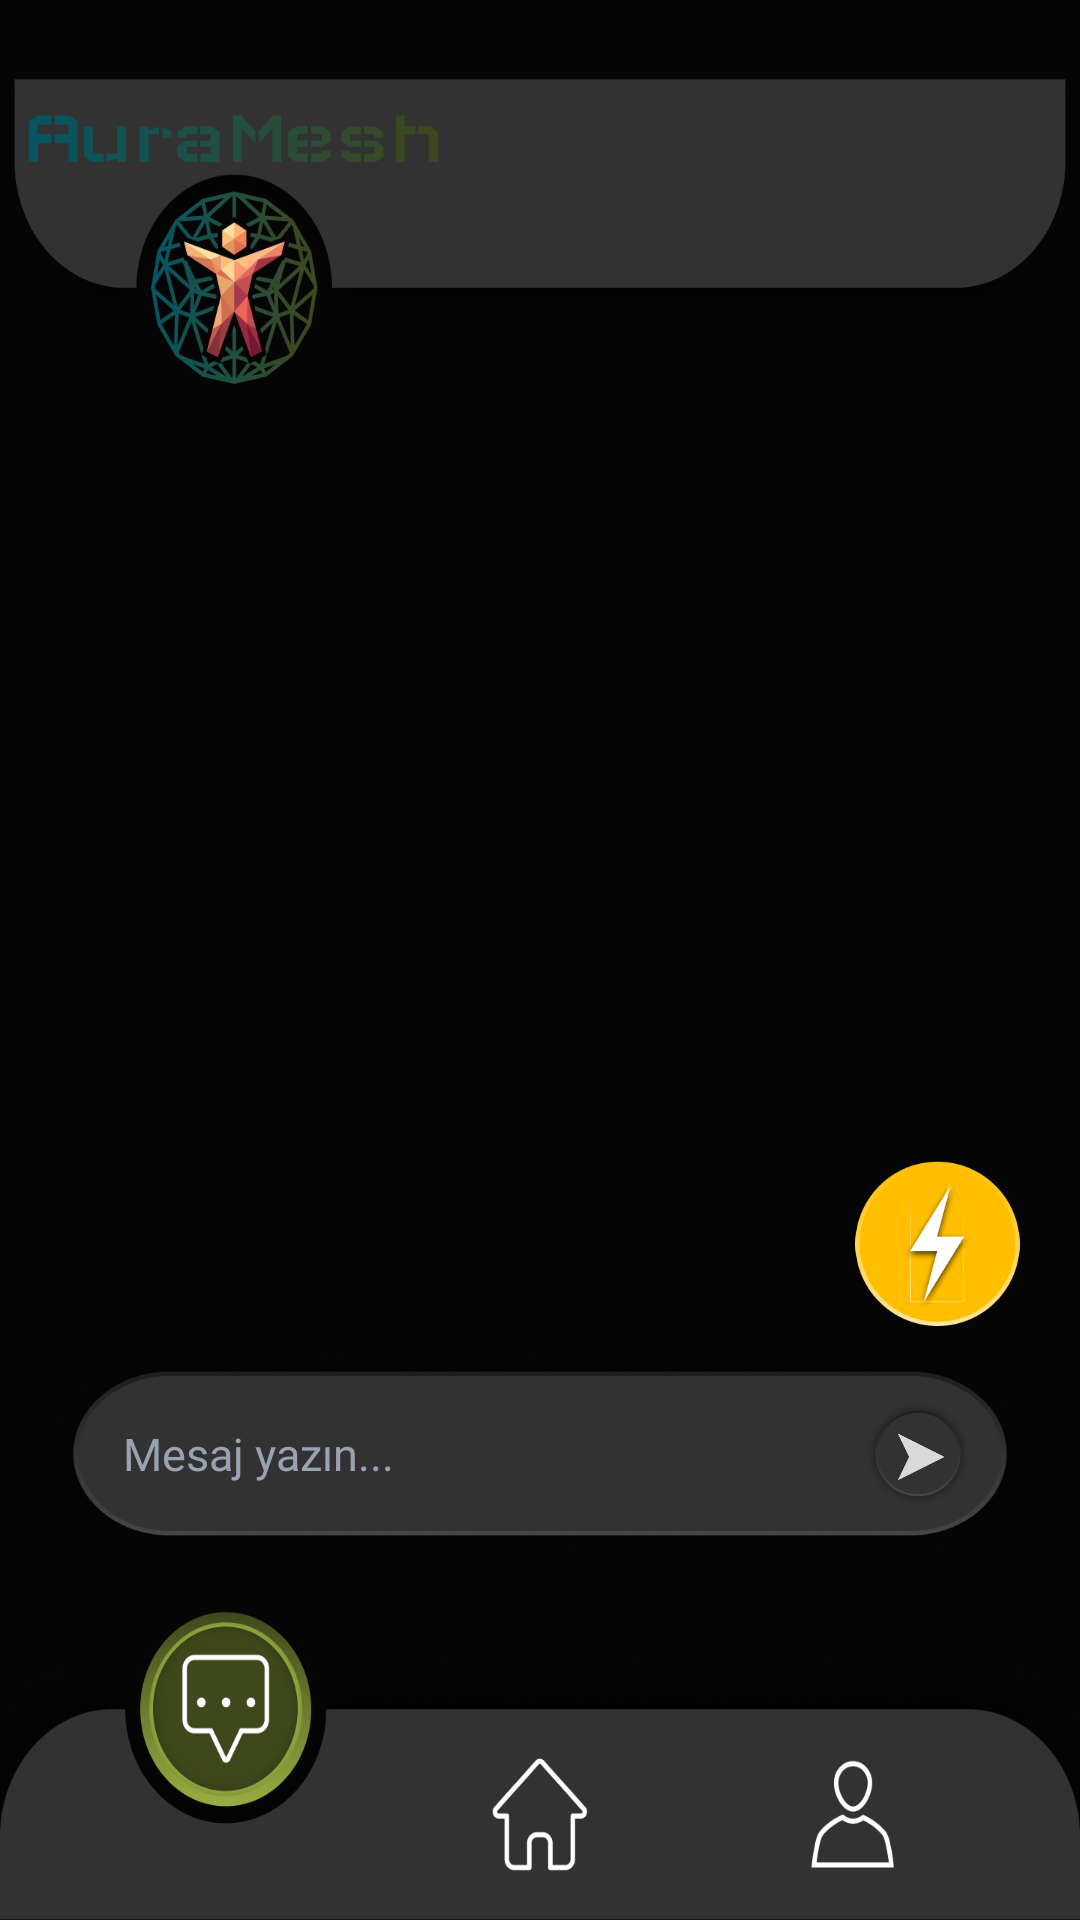

Icons on this 1080×1920 Android screen, each with its box as (x1, y1, x2, y2):
Quick Actions Button: (855, 1161, 1020, 1326)
Send Message Button: (828, 1372, 1007, 1536)
